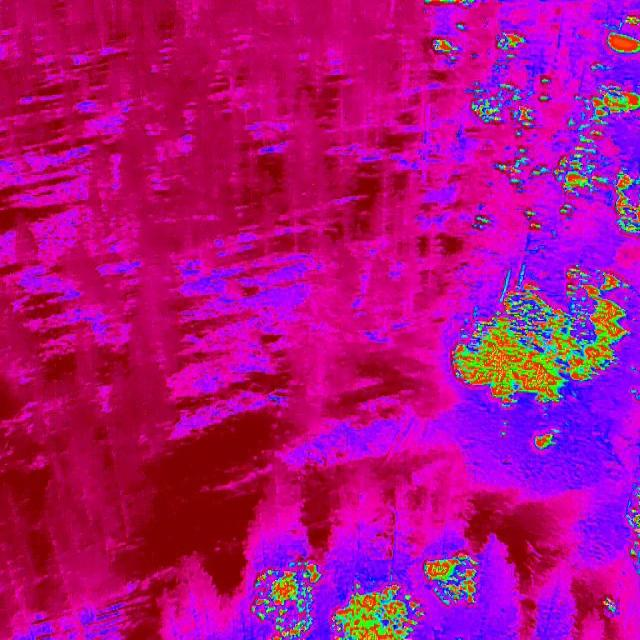fire: (451, 264, 640, 400), (492, 140, 612, 202), (250, 556, 322, 640), (333, 581, 425, 640), (468, 79, 536, 135), (566, 86, 640, 128), (421, 554, 476, 608), (613, 164, 640, 237), (626, 467, 640, 574), (494, 30, 529, 59), (604, 31, 640, 55), (430, 36, 463, 62), (532, 425, 558, 454), (422, 0, 479, 8), (526, 209, 544, 232), (600, 595, 620, 615), (469, 214, 492, 231), (574, 127, 604, 139), (492, 60, 509, 76), (590, 60, 612, 72), (624, 14, 640, 28), (456, 22, 469, 33), (561, 205, 572, 216), (540, 75, 552, 85), (501, 421, 508, 437), (501, 400, 512, 410), (538, 94, 550, 100)
